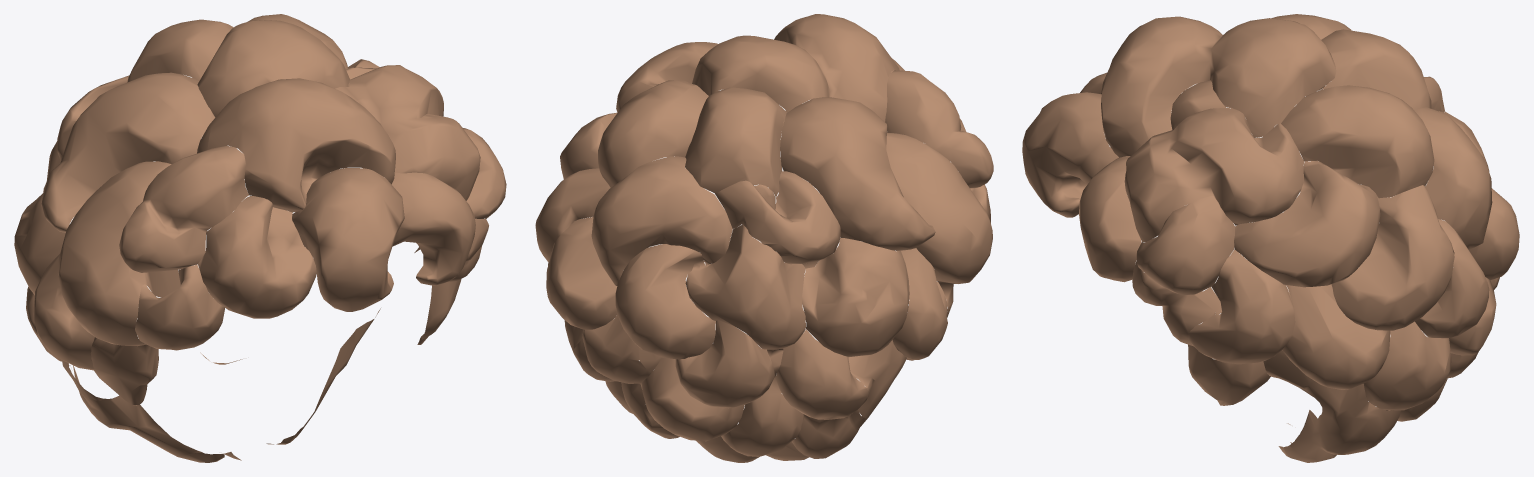
File: hair_05.glb
3 renders of one model, left to right at view 1: azimuth 30°, elevation 25°; view 2: azimuth 150°, elevation 25°; view 3: azimuth 270°, elevation 25°, orthographic. The views are drawn at different scales.
Parts seen in each view (by area): view 1: hair; view 2: hair; view 3: hair.
Boxes of the visible parts, x1,y1,x2,y2 form: hair: (14, 14, 506, 462); hair: (535, 14, 993, 462); hair: (1022, 14, 1519, 462).
Bounding box in the file's own units: 0.5345 × 0.5257 × 0.5549.
